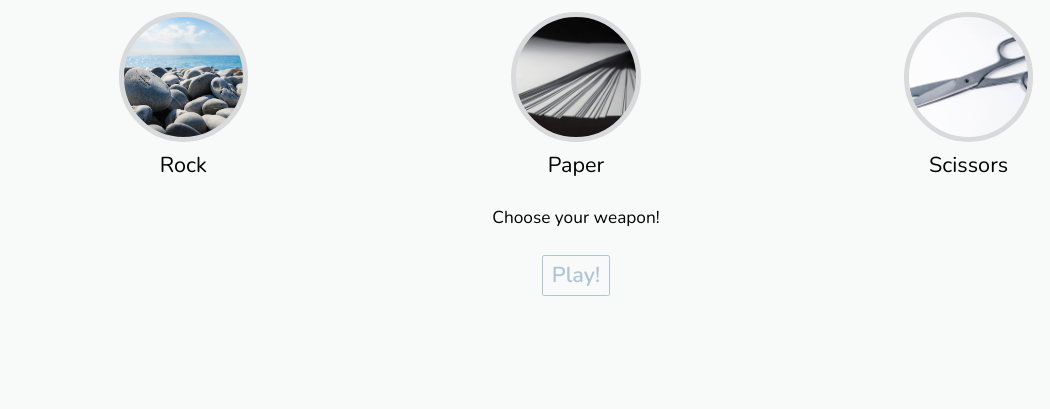
it: PlayArea › should render GameResult component, if the game ran
This screenshot has width=1050, height=409.
Click the button "Rock" at (183, 96), box [119,12,248,180]
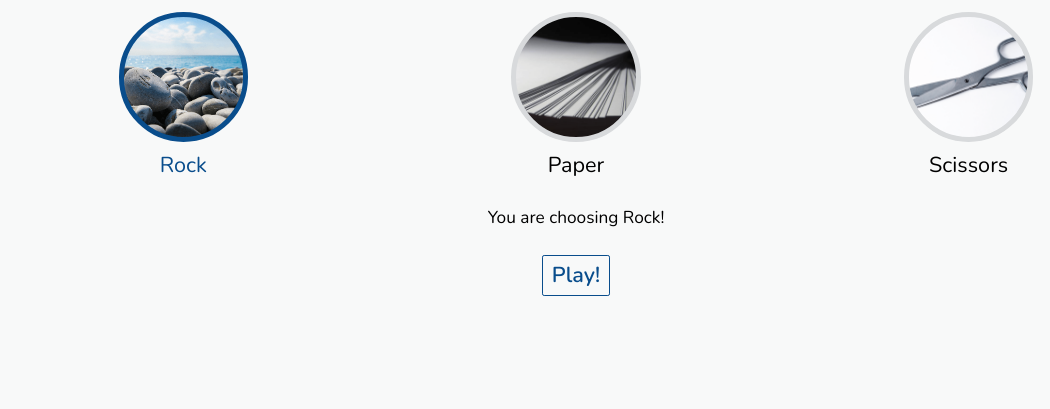
Click the button "Play!" at (576, 275), box [542,255,610,296]
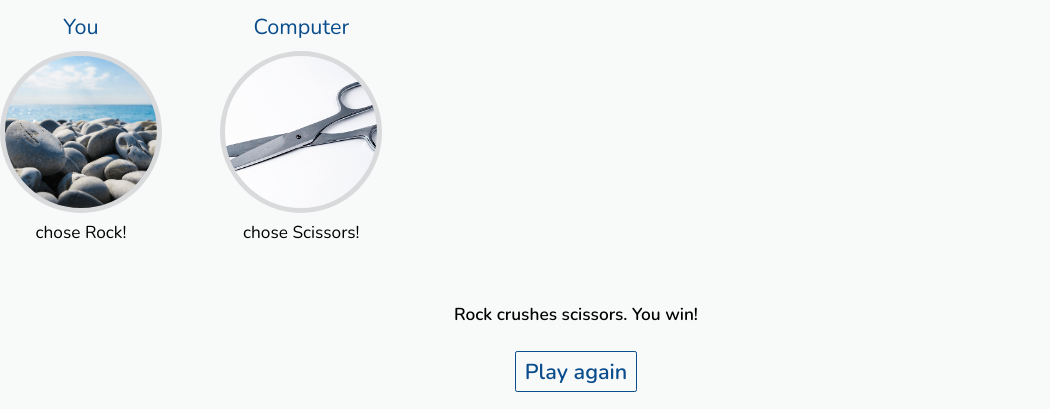
Now the number of pictures is 2, box [0,51,162,213]; [220,51,382,213]
